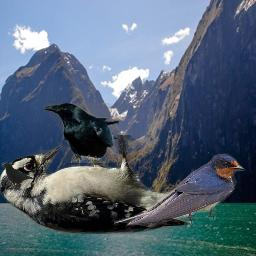Crow: (44, 103, 119, 163), (0, 162, 34, 188)
Swallow: (114, 153, 245, 227)
Woodpecker: (0, 135, 223, 234)
